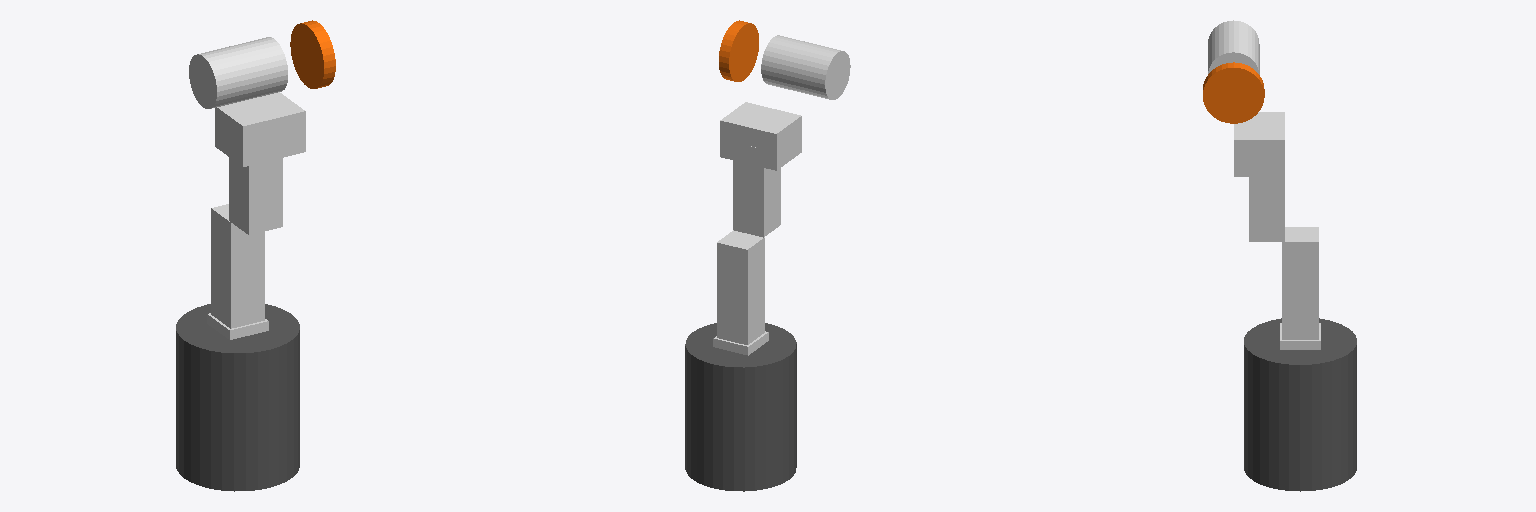
The robot description file, URDF, robot "mycobot280":
<?xml version="1.0"?>
<!-- cadpy:sourcePath=mycobot280_gen.py -->
<!-- cadpy:sourceHash=8bef5a9c16bc71962723c569cf18c7d12e8e871e56db5bf74ba94745111b3c10 -->
<robot name="mycobot280">
  <link name="base_link">
    <visual>
      <origin xyz="0.000000 0.000000 0.067500" rpy="0.000000 0.000000 0.000000" />
      <geometry>
        <cylinder radius="0.055000" length="0.135000" />
      </geometry>
      <material name="base_grey">
        <color rgba="0.4 0.4 0.4 1.0" />
      </material>
    </visual>
    <collision>
      <origin xyz="0.000000 0.000000 0.067500" rpy="0.000000 0.000000 0.000000" />
      <geometry>
        <cylinder radius="0.055000" length="0.135000" />
      </geometry>
    </collision>
    <inertial>
      <origin xyz="0.000000 0.000000 0.067500" rpy="0.000000 0.000000 0.000000" />
      <mass value="0.350000" />
      <inertia ixx="0.000796250" ixy="0.000000000" ixz="0.000000000" iyy="0.000796250" iyz="0.000000000" izz="0.000529375" />
    </inertial>
  </link>
  <link name="shoulder_link">
    <visual>
      <origin xyz="0.000000 0.000000 -0.030000" rpy="0.000000 0.000000 0.000000" />
      <geometry>
        <box size="0.040000 0.040000 0.070000" />
      </geometry>
      <material name="arm_white">
        <color rgba="0.9 0.9 0.9 1.0" />
      </material>
    </visual>
    <collision>
      <origin xyz="0.000000 0.000000 -0.030000" rpy="0.000000 0.000000 0.000000" />
      <geometry>
        <box size="0.040000 0.040000 0.070000" />
      </geometry>
    </collision>
    <inertial>
      <origin xyz="0.000000 0.000000 -0.030000" rpy="0.000000 0.000000 0.000000" />
      <mass value="0.100000" />
      <inertia ixx="0.000054167" ixy="0.000000000" ixz="0.000000000" iyy="0.000054167" iyz="0.000000000" izz="0.000026667" />
    </inertial>
  </link>
  <link name="upper_arm_link">
    <visual>
      <origin xyz="-0.055000 0.000000 0.000000" rpy="0.000000 0.000000 0.000000" />
      <geometry>
        <box size="0.110000 0.035000 0.035000" />
      </geometry>
      <material name="arm_white">
        <color rgba="0.9 0.9 0.9 1.0" />
      </material>
    </visual>
    <collision>
      <origin xyz="-0.055000 0.000000 0.000000" rpy="0.000000 0.000000 0.000000" />
      <geometry>
        <box size="0.110000 0.035000 0.035000" />
      </geometry>
    </collision>
    <inertial>
      <origin xyz="-0.055000 0.000000 0.000000" rpy="0.000000 0.000000 0.000000" />
      <mass value="0.120000" />
      <inertia ixx="0.000024500" ixy="0.000000000" ixz="0.000000000" iyy="0.000133250" iyz="0.000000000" izz="0.000133250" />
    </inertial>
  </link>
  <link name="forearm_link">
    <visual>
      <origin xyz="-0.048000 0.000000 0.032000" rpy="0.000000 0.000000 0.000000" />
      <geometry>
        <box size="0.096000 0.035000 0.035000" />
      </geometry>
      <material name="arm_white">
        <color rgba="0.9 0.9 0.9 1.0" />
      </material>
    </visual>
    <collision>
      <origin xyz="-0.048000 0.000000 0.032000" rpy="0.000000 0.000000 0.000000" />
      <geometry>
        <box size="0.096000 0.035000 0.035000" />
      </geometry>
    </collision>
    <inertial>
      <origin xyz="-0.048000 0.000000 0.032000" rpy="0.000000 0.000000 0.000000" />
      <mass value="0.100000" />
      <inertia ixx="0.000020417" ixy="0.000000000" ixz="0.000000000" iyy="0.000087008" iyz="0.000000000" izz="0.000087008" />
    </inertial>
  </link>
  <link name="wrist_pitch_link">
    <visual>
      <origin xyz="0.000000 0.000000 -0.025000" rpy="0.000000 0.000000 0.000000" />
      <geometry>
        <box size="0.064000 0.040000 0.050000" />
      </geometry>
      <material name="arm_white">
        <color rgba="0.9 0.9 0.9 1.0" />
      </material>
    </visual>
    <collision>
      <origin xyz="0.000000 0.000000 -0.025000" rpy="0.000000 0.000000 0.000000" />
      <geometry>
        <box size="0.064000 0.040000 0.050000" />
      </geometry>
    </collision>
    <inertial>
      <origin xyz="0.000000 0.000000 -0.025000" rpy="0.000000 0.000000 0.000000" />
      <mass value="0.080000" />
      <inertia ixx="0.000027333" ixy="0.000000000" ixz="0.000000000" iyy="0.000043973" iyz="0.000000000" izz="0.000037973" />
    </inertial>
  </link>
  <link name="wrist_roll_link">
    <visual>
      <origin xyz="0.000000 -0.036600 0.000000" rpy="1.570796 0.000000 0.000000" />
      <geometry>
        <cylinder radius="0.025000" length="0.073000" />
      </geometry>
      <material name="arm_white">
        <color rgba="0.9 0.9 0.9 1.0" />
      </material>
    </visual>
    <collision>
      <origin xyz="0.000000 -0.036600 0.000000" rpy="1.570796 0.000000 0.000000" />
      <geometry>
        <cylinder radius="0.025000" length="0.073000" />
      </geometry>
    </collision>
    <inertial>
      <origin xyz="0.000000 -0.036600 0.000000" rpy="0.000000 0.000000 0.000000" />
      <mass value="0.070000" />
      <inertia ixx="0.000042023" ixy="0.000000000" ixz="0.000000000" iyy="0.000021875" iyz="0.000000000" izz="0.000042023" />
    </inertial>
  </link>
  <link name="flange_link">
    <visual>
      <origin xyz="0.000000 0.000000 -0.006000" rpy="0.000000 0.000000 0.000000" />
      <geometry>
        <cylinder radius="0.030000" length="0.012000" />
      </geometry>
      <material name="flange_orange">
        <color rgba="1.0 0.5 0.1 1.0" />
      </material>
    </visual>
    <collision>
      <origin xyz="0.000000 0.000000 -0.006000" rpy="0.000000 0.000000 0.000000" />
      <geometry>
        <cylinder radius="0.030000" length="0.012000" />
      </geometry>
    </collision>
    <inertial>
      <origin xyz="0.000000 0.000000 -0.006000" rpy="0.000000 0.000000 0.000000" />
      <mass value="0.040000" />
      <inertia ixx="0.000009480" ixy="0.000000000" ixz="0.000000000" iyy="0.000009480" iyz="0.000000000" izz="0.000018000" />
    </inertial>
  </link>
  <link name="tool0" />
  <joint name="joint1" type="revolute">
    <origin xyz="0.000000 0.000000 0.139560" rpy="0.000000 0.000000 0.000000" />
    <parent link="base_link" />
    <child link="shoulder_link" />
    <axis xyz="0.000000 0.000000 1.000000" />
    <limit lower="-2.932153" upper="2.932153" effort="1.0" velocity="1.0" />
  </joint>
  <joint name="joint2" type="revolute">
    <origin xyz="0.000000 0.000000 -0.001000" rpy="0.000000 1.570796 -1.570796" />
    <parent link="shoulder_link" />
    <child link="upper_arm_link" />
    <axis xyz="0.000000 0.000000 1.000000" />
    <limit lower="-2.356194" upper="2.356194" effort="1.0" velocity="1.0" />
  </joint>
  <joint name="joint3" type="revolute">
    <origin xyz="-0.110400 0.000000 0.000000" rpy="0.000000 0.000000 0.000000" />
    <parent link="upper_arm_link" />
    <child link="forearm_link" />
    <axis xyz="0.000000 0.000000 1.000000" />
    <limit lower="-2.617994" upper="2.617994" effort="1.0" velocity="1.0" />
  </joint>
  <joint name="joint4" type="revolute">
    <origin xyz="-0.096000 0.000000 0.064620" rpy="0.000000 0.000000 -1.570796" />
    <parent link="forearm_link" />
    <child link="wrist_pitch_link" />
    <axis xyz="0.000000 0.000000 1.000000" />
    <limit lower="-2.530727" upper="2.530727" effort="1.0" velocity="1.0" />
  </joint>
  <joint name="joint5" type="revolute">
    <origin xyz="0.000000 -0.073180 0.000000" rpy="1.570796 -1.570796 0.000000" />
    <parent link="wrist_pitch_link" />
    <child link="wrist_roll_link" />
    <axis xyz="0.000000 0.000000 1.000000" />
    <limit lower="-2.879793" upper="2.879793" effort="1.0" velocity="1.0" />
  </joint>
  <joint name="joint6" type="revolute">
    <origin xyz="0.000000 0.045600 0.000000" rpy="-1.570796 0.000000 0.000000" />
    <parent link="wrist_roll_link" />
    <child link="flange_link" />
    <axis xyz="0.000000 0.000000 1.000000" />
    <limit lower="-3.141593" upper="3.141593" effort="1.0" velocity="1.0" />
  </joint>
  <joint name="tool_joint" type="fixed">
    <origin xyz="0.000000 0.000000 0.000000" rpy="0.000000 0.000000 0.000000" />
    <parent link="flange_link" />
    <child link="tool0" />
  </joint>
</robot>

--- What the picture shows (computed from the rendered views, not written in the file) ---
The picture shows the robot from 3 angles, left to right: view 1: azimuth 30°, elevation 25°; view 2: azimuth 150°, elevation 25°; view 3: azimuth 270°, elevation 25°; orthographic projection.
Model mycobot280 with 8 links and 7 joints (6 revolute, 1 fixed), rooted at base_link, posed all joints at 0.
Links seen in each view (by area): view 1: base_link, upper_arm_link, wrist_pitch_link, wrist_roll_link, forearm_link, flange_link, shoulder_link; view 2: base_link, upper_arm_link, wrist_roll_link, wrist_pitch_link, forearm_link, flange_link, shoulder_link; view 3: base_link, upper_arm_link, wrist_pitch_link, flange_link, forearm_link, wrist_roll_link.
Boxes of the visible links, x1,y1,x2,y2 form: base_link: [176, 304, 299, 491]; upper_arm_link: [211, 204, 264, 328]; wrist_pitch_link: [215, 92, 305, 166]; wrist_roll_link: [189, 37, 287, 108]; forearm_link: [229, 157, 282, 234]; flange_link: [290, 20, 335, 88]; shoulder_link: [207, 313, 268, 339]; base_link: [685, 323, 796, 491]; upper_arm_link: [717, 230, 764, 344]; wrist_roll_link: [761, 35, 850, 99]; wrist_pitch_link: [720, 102, 801, 170]; forearm_link: [733, 142, 780, 237]; flange_link: [719, 20, 758, 81]; shoulder_link: [713, 331, 768, 355]; base_link: [1244, 318, 1356, 491]; upper_arm_link: [1282, 227, 1318, 339]; wrist_pitch_link: [1234, 112, 1284, 176]; flange_link: [1203, 62, 1264, 123]; forearm_link: [1249, 177, 1284, 241]; wrist_roll_link: [1208, 20, 1259, 74].
Size in the robot's own frame: 0.1281 by 0.1496 by 0.4481 metres.
Geometry: primitives only (box / cylinder / sphere), no mesh files.
